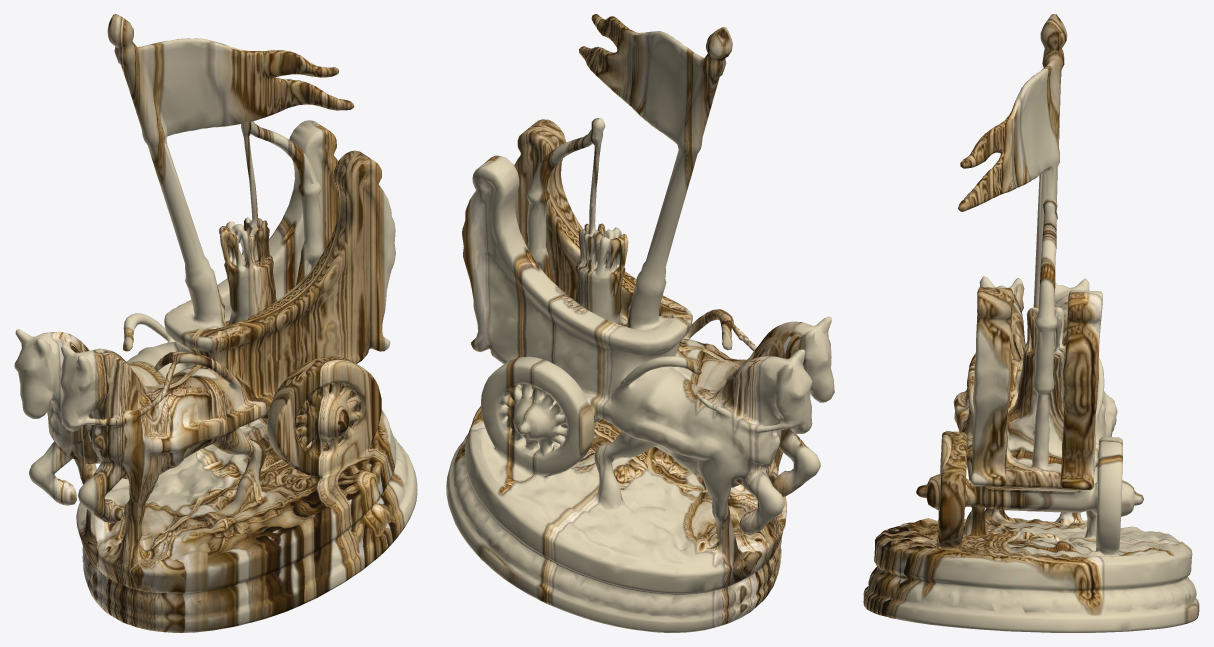
Rendered from ratha.glb.
3 renders of one model, left to right at view 1: azimuth 30°, elevation 25°; view 2: azimuth 150°, elevation 25°; view 3: azimuth 270°, elevation 25°, orthographic.
Visible parts, largest first — view 1: geometry_0; view 2: geometry_0; view 3: geometry_0.
Part boxes in pixels (x1,y1,x2,y2): geometry_0: (14,14,417,632); geometry_0: (446,14,834,632); geometry_0: (863,14,1199,632).
Bounding box in the file's own units: 1.32 × 2.07 × 1.08.
1 material, 1 textured.
